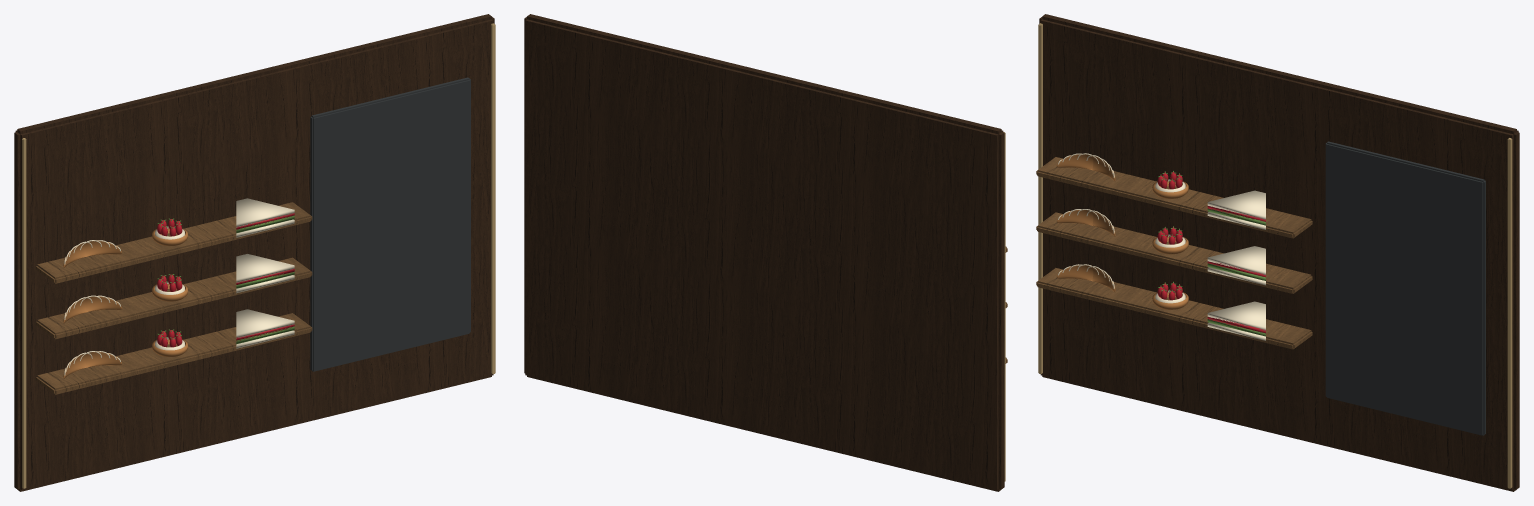
The model's file is bakery_wall_v293.glb.
3 views of the same model, side by side, from view 1: azimuth 30°, elevation 25°; view 2: azimuth 150°, elevation 25°; view 3: azimuth 330°, elevation 25° (orthographic).
Parts seen in each view (by area): view 1: bakery_wall_v293_CC0_Smoked_walnut, bakery_wall_v293_Anodised_graphite, bakery_wall_v293_CC0_Oak_veneer, bakery_wall_v293_Satin_champagne, bakery_wall_v293_V24_cream.005, bakery_wall_v293_V24_cream.002, bakery_wall_v293_V24_cream.008, bakery_wall_v293_V24_golden_crust.002, bakery_wall_v293_V24_golden_crust, bakery_wall_v293_V24_golden_crust.004; view 2: bakery_wall_v293_CC0_Smoked_walnut, bakery_wall_v293_Satin_champagne; view 3: bakery_wall_v293_CC0_Smoked_walnut, bakery_wall_v293_Anodised_graphite, bakery_wall_v293_CC0_Oak_veneer, bakery_wall_v293_Satin_champagne, bakery_wall_v293_V24_cream.005, bakery_wall_v293_V24_cream.008, bakery_wall_v293_V24_cream.002, bakery_wall_v293_V24_golden_crust, bakery_wall_v293_V24_golden_crust.004, bakery_wall_v293_V24_golden_crust.002.
Part boxes in pixels (x1=…): bakery_wall_v293_CC0_Smoked_walnut: x1=14, y1=14, x2=494, y2=491; bakery_wall_v293_Anodised_graphite: x1=310, y1=77, x2=470, y2=371; bakery_wall_v293_CC0_Oak_veneer: x1=35, y1=202, x2=312, y2=394; bakery_wall_v293_Satin_champagne: x1=22, y1=23, x2=495, y2=488; bakery_wall_v293_V24_cream.005: x1=236, y1=254, x2=294, y2=293; bakery_wall_v293_V24_cream.002: x1=236, y1=309, x2=294, y2=348; bakery_wall_v293_V24_cream.008: x1=236, y1=198, x2=294, y2=237; bakery_wall_v293_V24_golden_crust.002: x1=63, y1=296, x2=121, y2=323; bakery_wall_v293_V24_golden_crust: x1=63, y1=351, x2=121, y2=378; bakery_wall_v293_V24_golden_crust.004: x1=63, y1=240, x2=121, y2=267; bakery_wall_v293_CC0_Smoked_walnut: x1=524, y1=14, x2=1004, y2=491; bakery_wall_v293_Satin_champagne: x1=1003, y1=132, x2=1005, y2=481; bakery_wall_v293_CC0_Smoked_walnut: x1=1039, y1=14, x2=1519, y2=491; bakery_wall_v293_Anodised_graphite: x1=1325, y1=141, x2=1485, y2=435; bakery_wall_v293_CC0_Oak_veneer: x1=1036, y1=157, x2=1312, y2=349; bakery_wall_v293_Satin_champagne: x1=1038, y1=23, x2=1512, y2=488; bakery_wall_v293_V24_cream.005: x1=1207, y1=246, x2=1265, y2=285; bakery_wall_v293_V24_cream.008: x1=1207, y1=190, x2=1265, y2=229; bakery_wall_v293_V24_cream.002: x1=1207, y1=301, x2=1265, y2=340; bakery_wall_v293_V24_golden_crust: x1=1057, y1=265, x2=1115, y2=291; bakery_wall_v293_V24_golden_crust.004: x1=1057, y1=154, x2=1115, y2=181; bakery_wall_v293_V24_golden_crust.002: x1=1057, y1=210, x2=1115, y2=236.
Size of the model in its own units: 3.6 by 2.6 by 0.3932.
31 materials, 2 textured.
